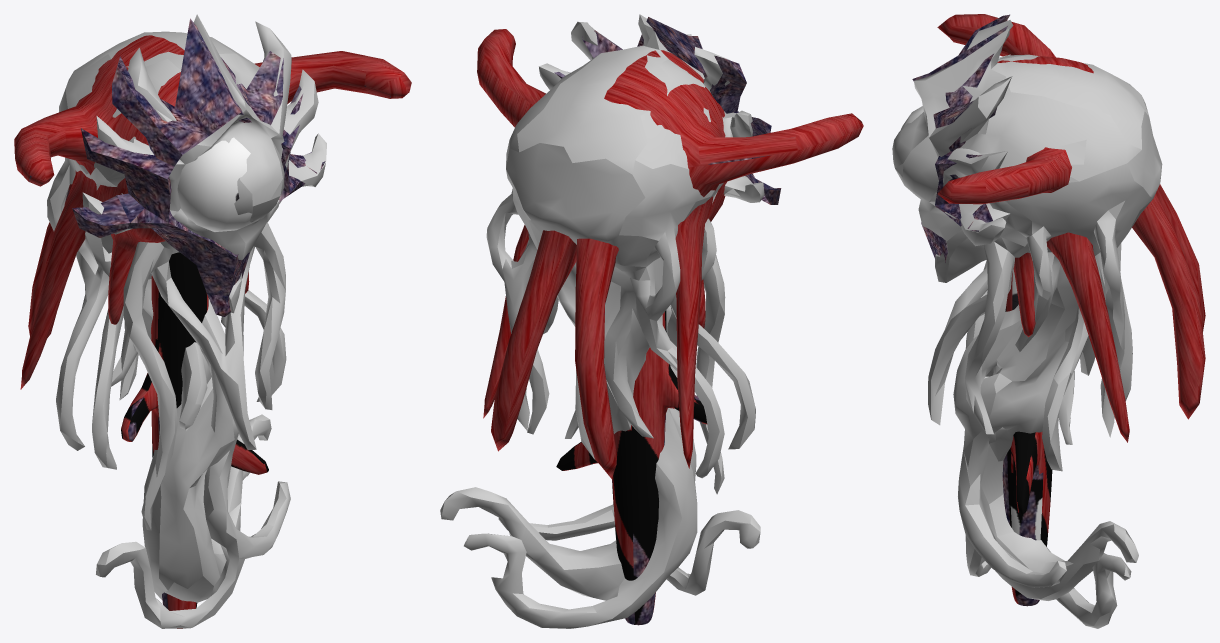
Rendered from Hallucination.fbx.
3 views of the same model, side by side, from view 1: azimuth 30°, elevation 25°; view 2: azimuth 150°, elevation 25°; view 3: azimuth 270°, elevation 25° (orthographic). The views are drawn at different scales.
Parts seen in each view (by area): view 1: input, Circle, Cube.001, Cylinder, Cube; view 2: input, Cube.001, Cylinder, Circle; view 3: input, Cube.001, Cylinder, Circle.
Boxes of the visible parts, x1,y1,x2,y2 form: input: (47, 14, 326, 628); Circle: (72, 18, 325, 316); Cube.001: (14, 35, 411, 389); Cylinder: (121, 252, 268, 628); Cube: (177, 137, 259, 231); input: (440, 14, 764, 628); Cube.001: (477, 29, 863, 478); Cylinder: (556, 310, 707, 625); Circle: (554, 17, 781, 204); input: (892, 20, 1162, 628); Cube.001: (937, 14, 1205, 442); Cylinder: (1002, 269, 1052, 606); Circle: (912, 14, 1009, 262).
Size of the model in its own units: 299 by 462 by 227.
